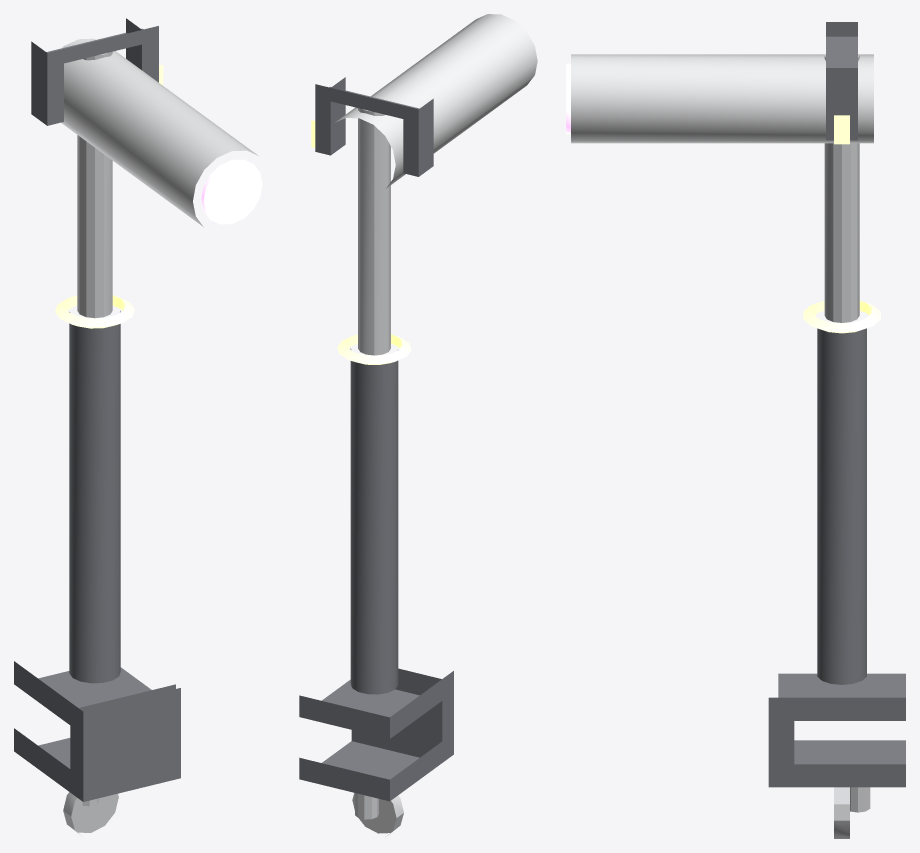
File: iter_03.glb
The picture shows the model from 3 angles, left to right: view 1: azimuth 30°, elevation 25°; view 2: azimuth 150°, elevation 25°; view 3: azimuth 270°, elevation 25°; orthographic projection. The views are drawn at different scales.
Parts seen in each view (by area): view 1: Mast_Outer, Clamp, Head_Shell, Mast_Inner, Head_Yoke, Head_Lens, Clamp_Screw, Latch_Lights; view 2: Mast_Outer, Clamp, Head_Shell, Mast_Inner, Head_Yoke, Clamp_Screw, Latch_Lights; view 3: Head_Shell, Mast_Outer, Clamp, Mast_Inner, Head_Yoke, Latch_Lights, Clamp_Screw.
Part boxes in pixels (left/top/right/bottom): Mast_Outer: left=69, top=311, right=120, bottom=683; Clamp: left=14, top=661, right=180, bottom=801; Head_Shell: left=61, top=38, right=258, bottom=226; Mast_Inner: left=77, top=51, right=112, bottom=318; Head_Yoke: left=31, top=18, right=158, bottom=125; Head_Lens: left=201, top=159, right=262, bottom=224; Clamp_Screw: left=63, top=792, right=118, bottom=836; Latch_Lights: left=55, top=64, right=163, bottom=328; Mast_Outer: left=350, top=348, right=398, bottom=694; Clamp: left=299, top=668, right=453, bottom=801; Head_Shell: left=335, top=14, right=537, bottom=188; Mast_Inner: left=358, top=108, right=390, bottom=355; Head_Yoke: left=315, top=77, right=433, bottom=176; Clamp_Screw: left=352, top=793, right=403, bottom=835; Latch_Lights: left=311, top=120, right=411, bottom=364; Head_Shell: left=571, top=54, right=873, bottom=143; Mast_Outer: left=817, top=328, right=866, bottom=684; Clamp: left=768, top=673, right=905, bottom=787; Mast_Inner: left=824, top=56, right=859, bottom=322; Head_Yoke: left=826, top=22, right=857, bottom=140; Latch_Lights: left=803, top=115, right=880, bottom=333; Clamp_Screw: left=834, top=787, right=870, bottom=838.
Bounding box in the file's own units: 0.086 × 0.55 × 0.213.
